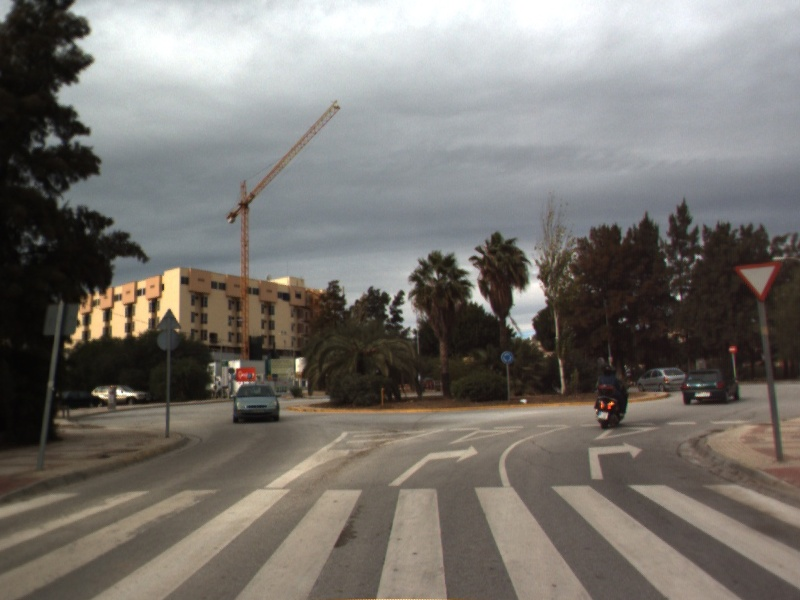RIGHT: (386, 443, 480, 488), (585, 439, 645, 481)
